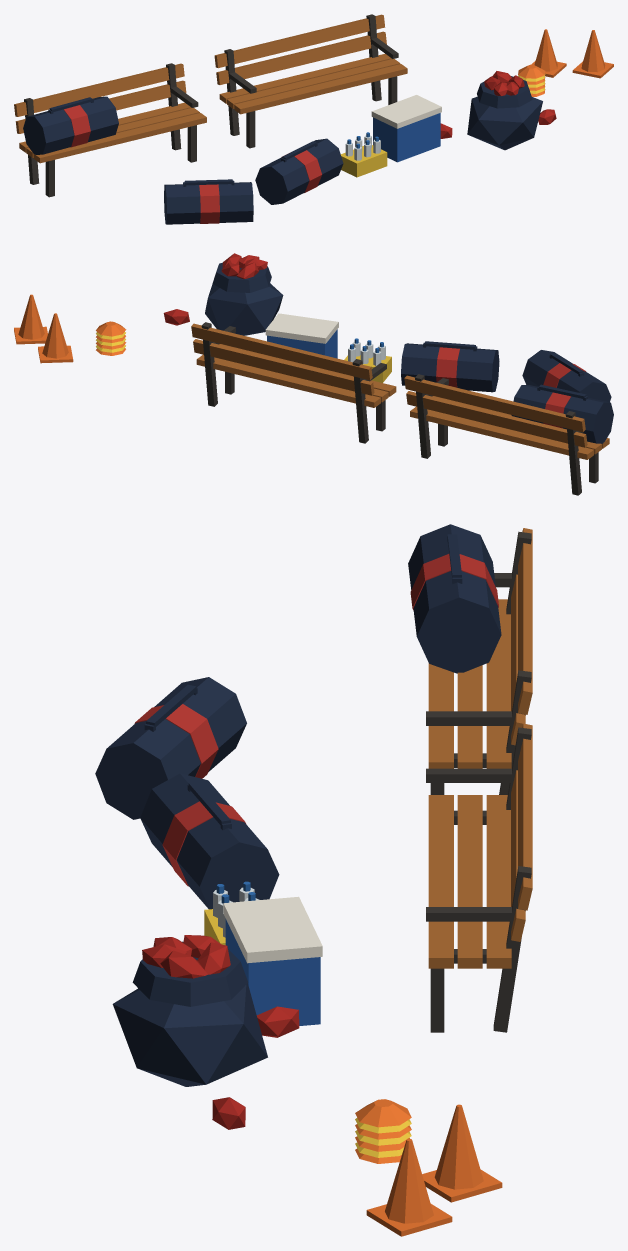
The model's file is training_kit.glb.
3 views of the same model, one above another, from view 1: azimuth 30°, elevation 25°; view 2: azimuth 150°, elevation 25°; view 3: azimuth 270°, elevation 25° (orthographic). The views are drawn at different scales.
Visible parts, largest first — view 1: Bench_1, Bench_0, Drinks, BallBag, KitBag_0, KitBag_2, KitBag_1, MarkerCones; view 2: Bench_1, Bench_0, BallBag, KitBag_1, Drinks, MarkerCones, KitBag_0, KitBag_2; view 3: Bench_1, BallBag, Bench_0, KitBag_2, KitBag_1, KitBag_0, Drinks, MarkerCones.
Boxes of the visible parts, x1,y1,x2,y2 form: Bench_1: (214, 14, 407, 148); Bench_0: (14, 63, 206, 197); Drinks: (340, 95, 441, 177); BallBag: (440, 71, 556, 150); KitBag_0: (23, 96, 118, 154); KitBag_2: (164, 179, 253, 224); KitBag_1: (255, 138, 343, 204); MarkerCones: (518, 29, 613, 96); Bench_1: (191, 322, 396, 443); Bench_0: (404, 374, 609, 495); BallBag: (163, 253, 283, 335); KitBag_1: (401, 341, 499, 392); Drinks: (265, 313, 391, 382); MarkerCones: (14, 294, 126, 363); KitBag_0: (511, 384, 613, 443); KitBag_2: (522, 350, 611, 402); Bench_1: (426, 723, 532, 1032); BallBag: (112, 935, 299, 1129); Bench_0: (426, 528, 532, 794); KitBag_2: (95, 677, 246, 819); KitBag_1: (140, 773, 279, 909); KitBag_0: (408, 524, 501, 673); Drinks: (204, 881, 322, 1025); MarkerCones: (355, 1099, 502, 1236).
Size of the model in its own units: 6.8 by 0.9981 by 2.27.
